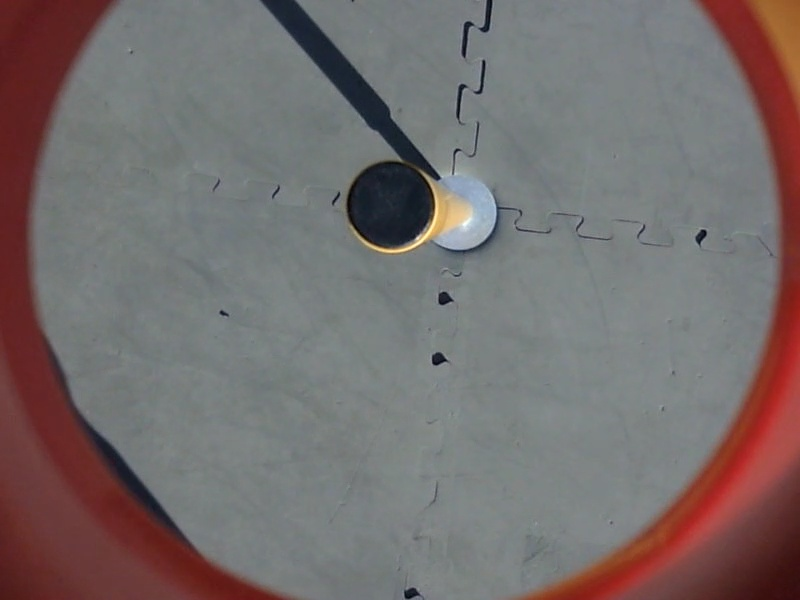tip: (340, 157, 442, 257)
